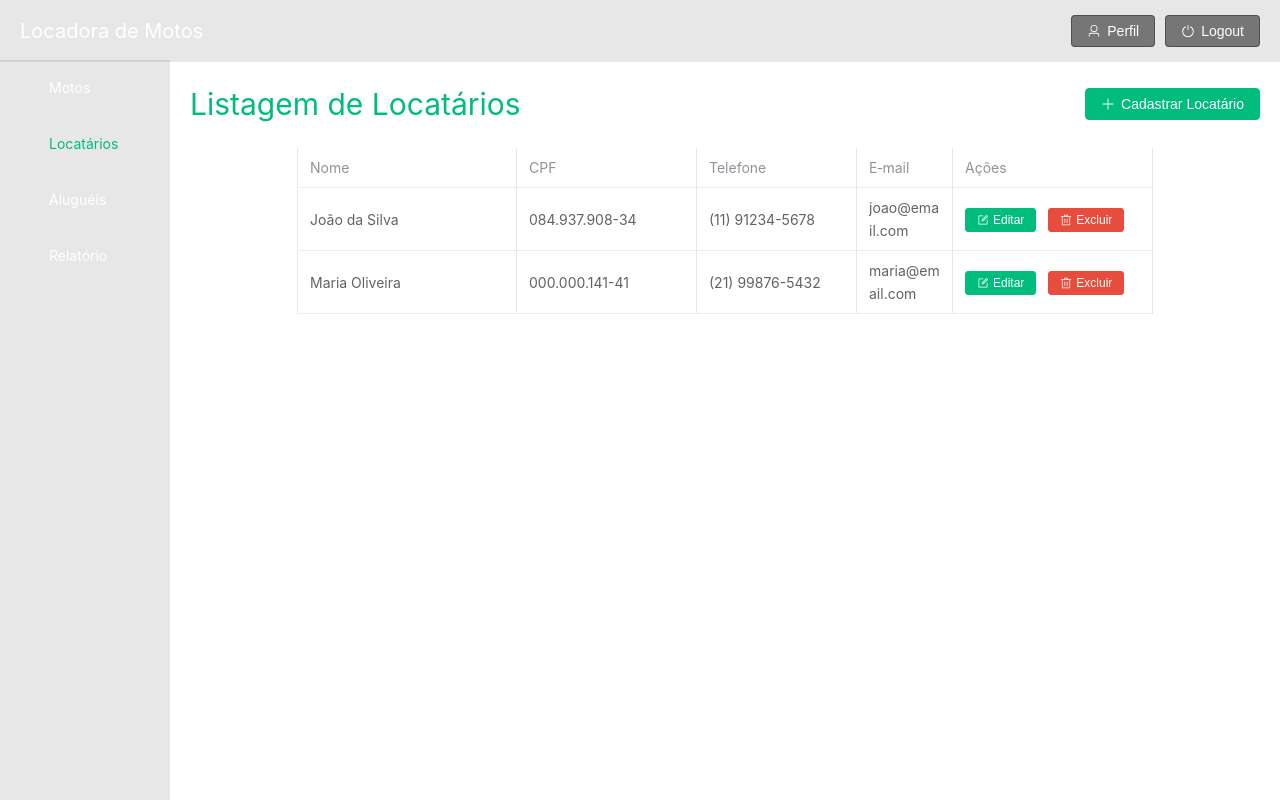
Test: Tela de Listagem de Locatários › deve abrir o modal de cadastro ao clicar em Cadastrar Locatário
Click the button "Cadastrar Locatário": click(1173, 104) [1085,88,1260,120]
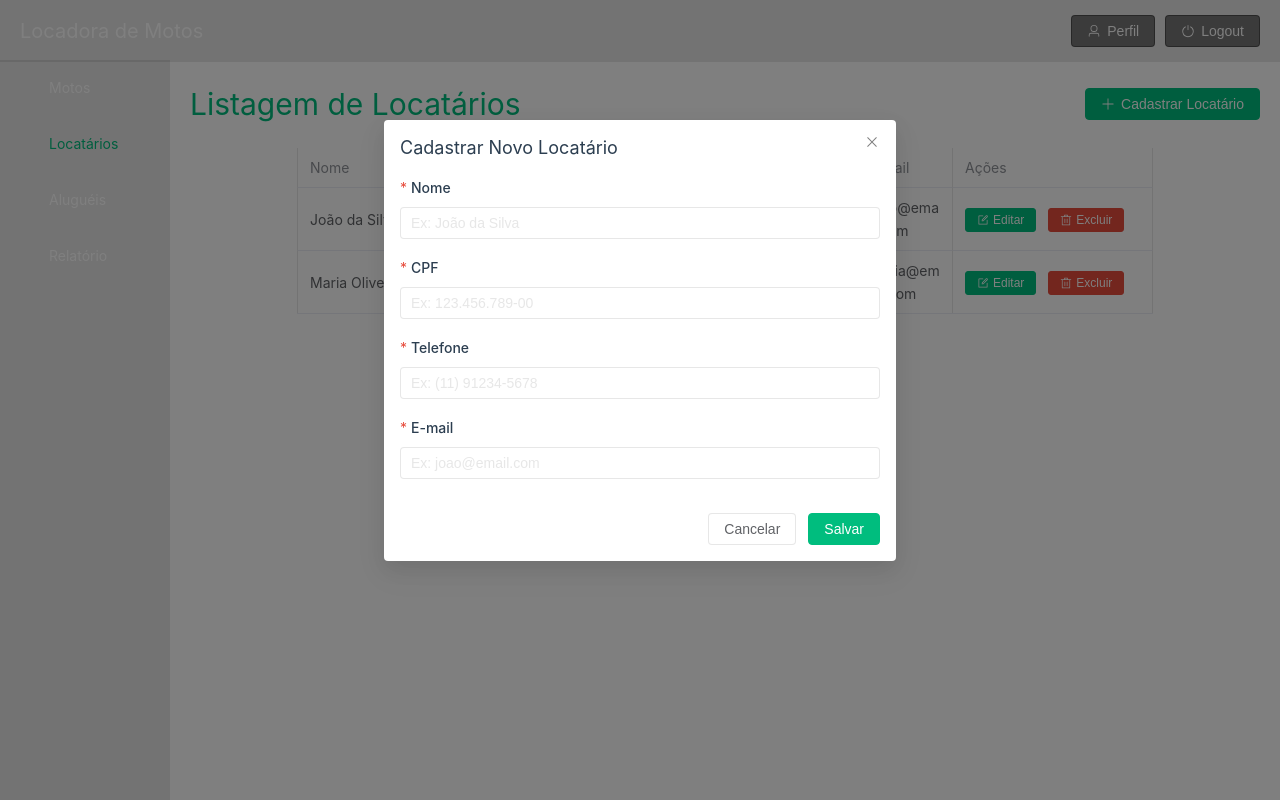
Result: the heading "Cadastrar Novo Locatário" is shown at [400,137,618,158]
